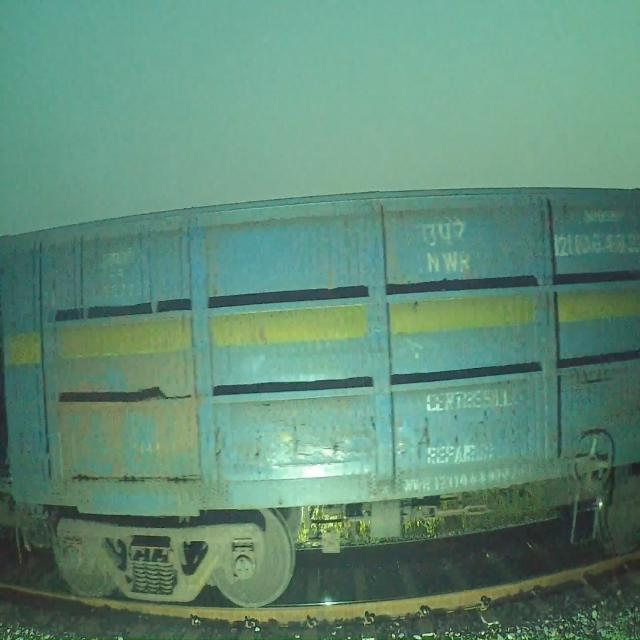WAgon-uic: (0, 184, 640, 605)
uic: (548, 222, 640, 262)
